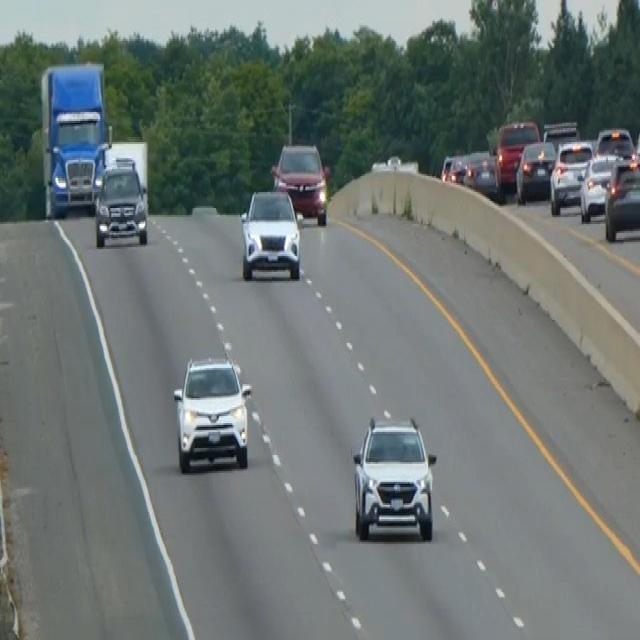car: (239, 185, 301, 281), (93, 155, 149, 247), (270, 138, 329, 225), (549, 137, 593, 213), (494, 118, 540, 188), (604, 156, 639, 242), (578, 151, 619, 222), (515, 138, 556, 202), (462, 149, 501, 201), (594, 125, 634, 158), (542, 118, 579, 150), (445, 151, 468, 185), (439, 151, 455, 183)
jeep: (350, 412, 437, 542), (171, 352, 253, 473)
lorry: (38, 58, 111, 218)
